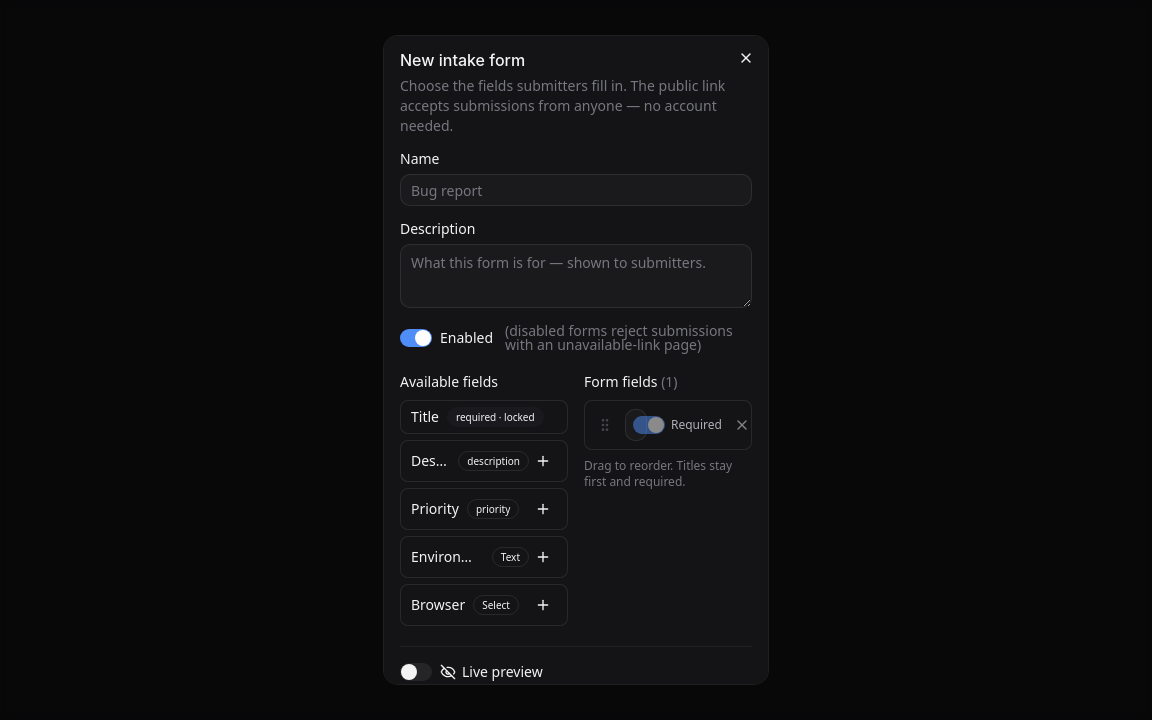
Test: FormBuilderDialog › adds a picked field to the form fields column
What coordinates should you click on to do the following:
click the button named "Add Description to the form"
I would click on:
 (543, 461)
Its box is [529, 447, 557, 475].
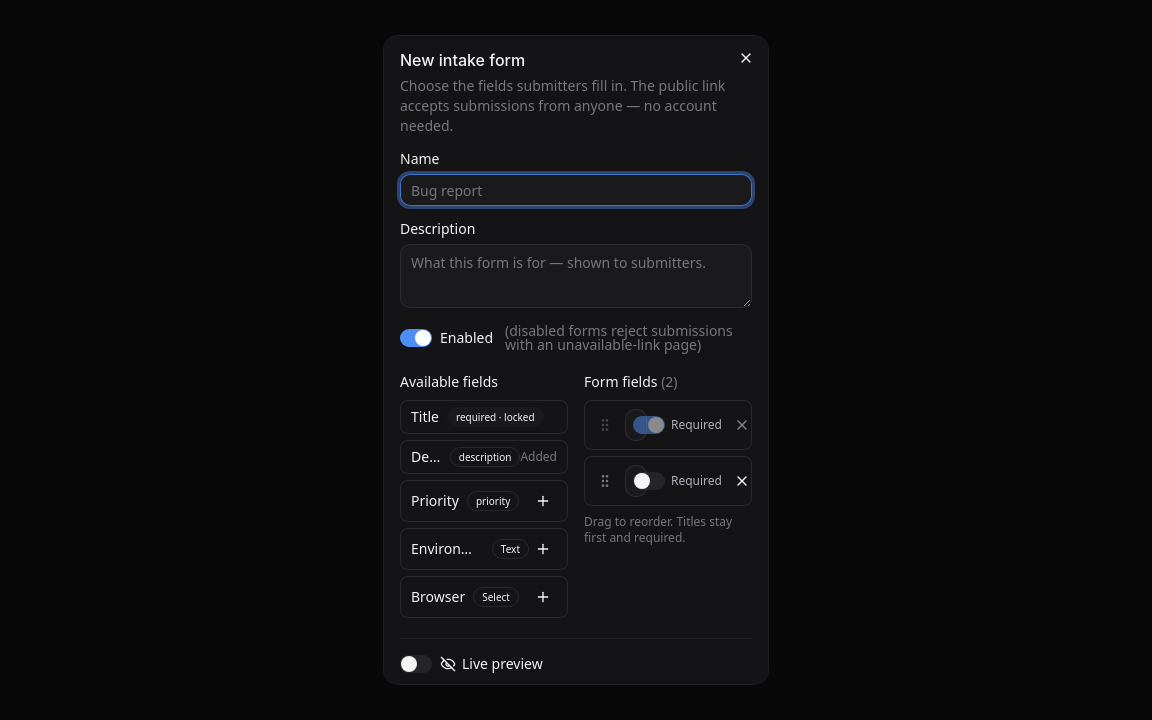
Check: the button named "Remove Description" is enabled, box [728, 467, 756, 495]
Check: the switch named "Required: Description" is not checked, box [633, 472, 665, 490]
